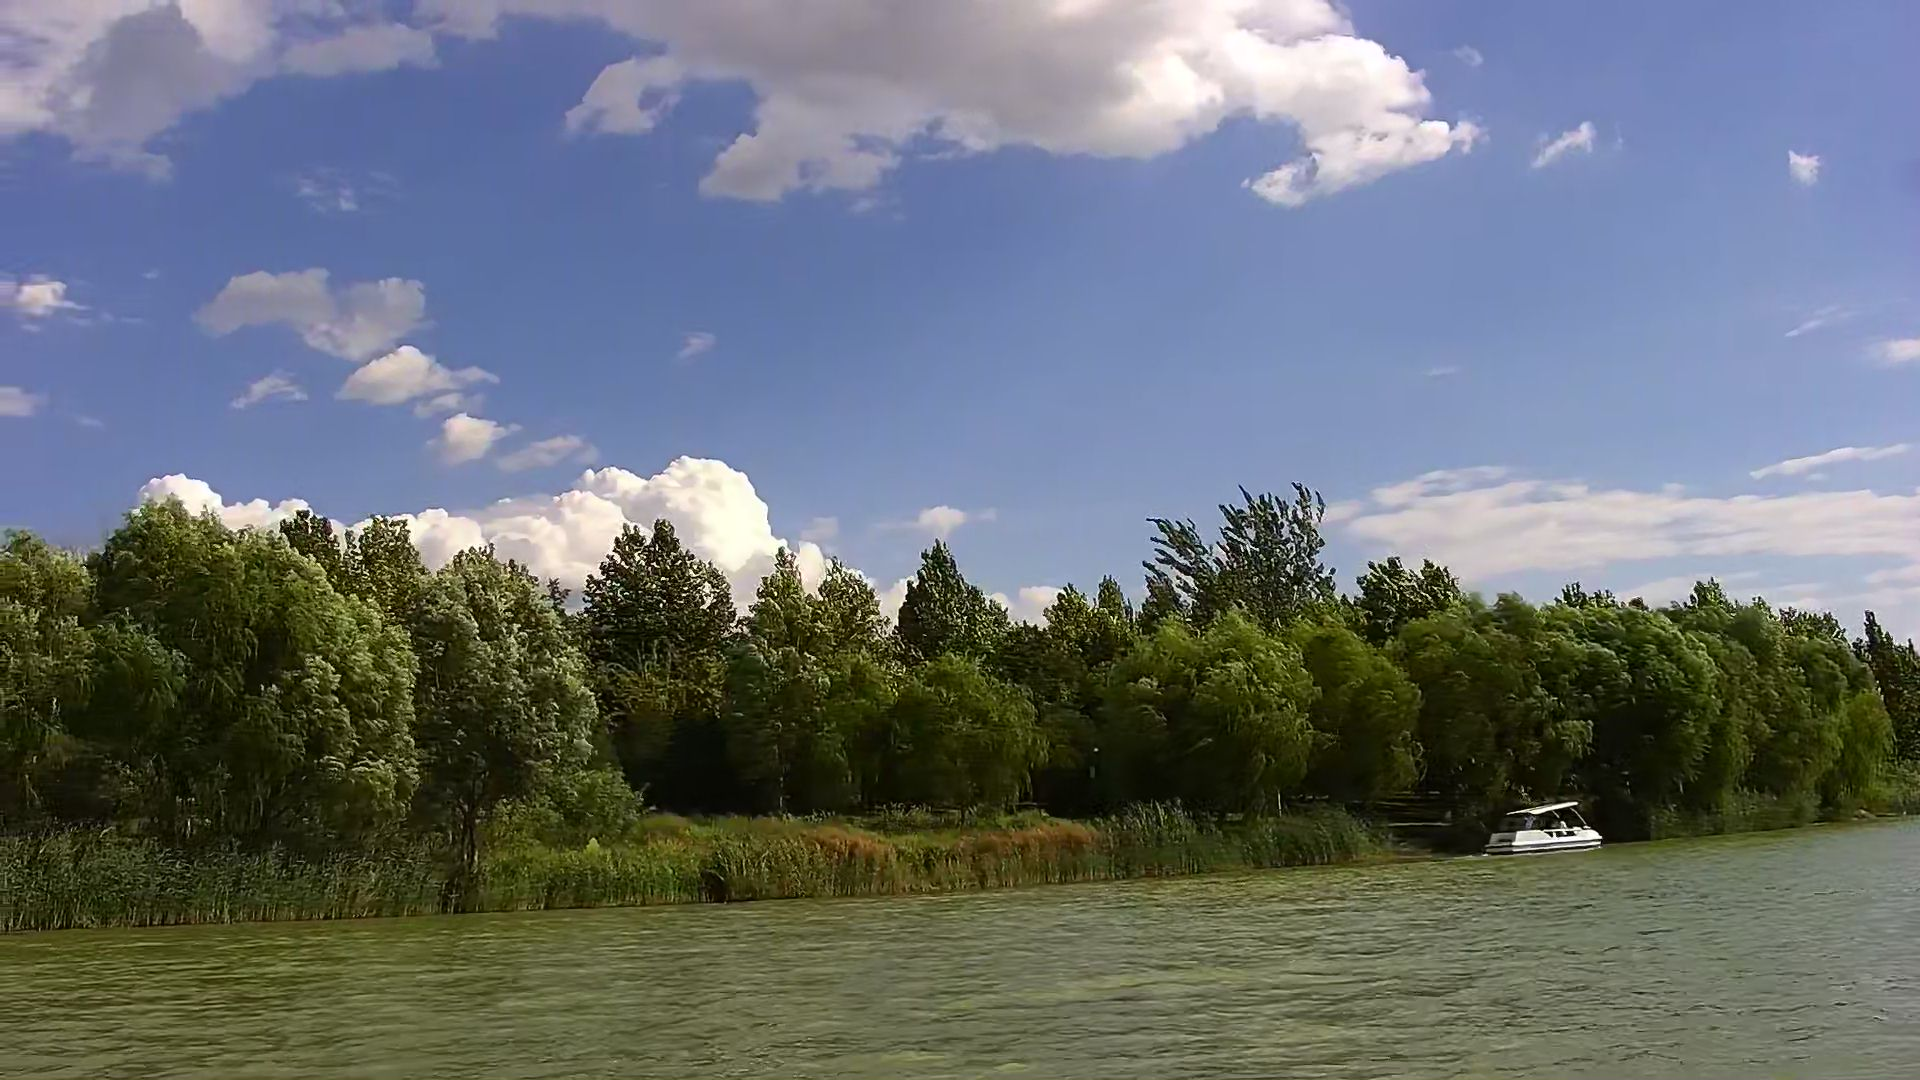boat: (1485, 800, 1604, 855)
